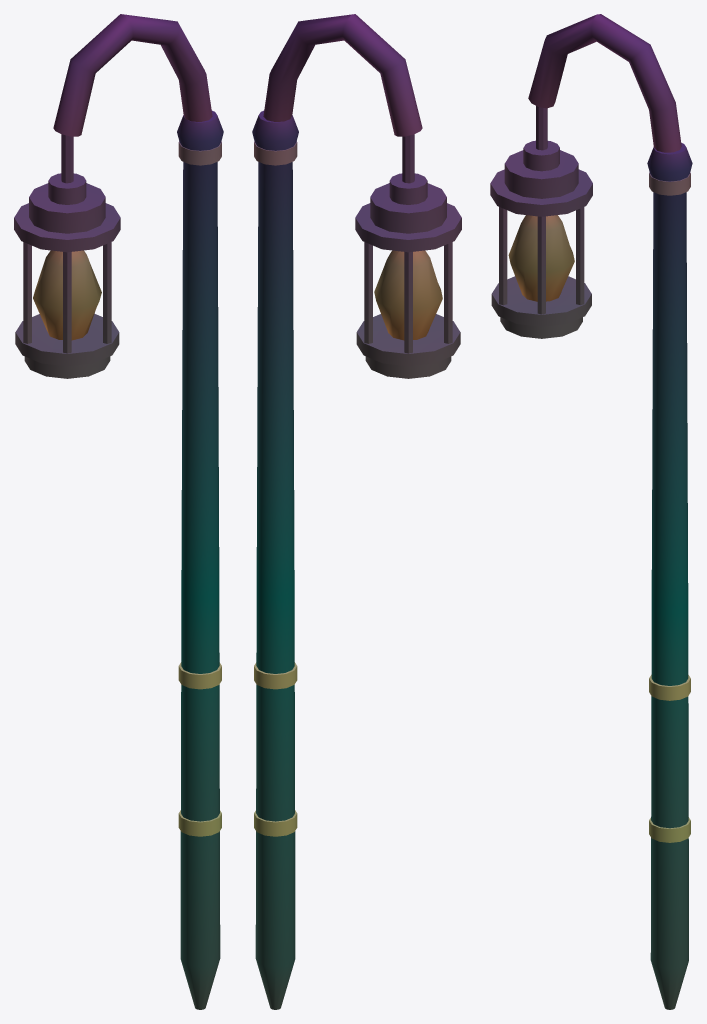
The model's file is lantern_crook.glb.
The picture shows the model from 3 angles, left to right: view 1: azimuth 30°, elevation 25°; view 2: azimuth 150°, elevation 25°; view 3: azimuth 330°, elevation 25°; orthographic projection. The views are drawn at different scales.
Visible parts, largest first — view 1: crook_staff, crook_cage, crook_hook, crook_flame, crook_brass; view 2: crook_staff, crook_cage, crook_hook, crook_flame, crook_brass; view 3: crook_staff, crook_cage, crook_hook, crook_flame, crook_brass.
Boxes of the visible parts, bbox=[...] form: crook_staff: bbox=[177, 110, 223, 1009]; crook_cage: bbox=[14, 134, 120, 378]; crook_hook: bbox=[53, 14, 212, 136]; crook_flame: bbox=[33, 250, 101, 340]; crook_brass: bbox=[178, 141, 221, 836]; crook_staff: bbox=[252, 110, 298, 1009]; crook_cage: bbox=[355, 134, 461, 378]; crook_hook: bbox=[263, 14, 422, 136]; crook_flame: bbox=[374, 250, 442, 340]; crook_brass: bbox=[254, 141, 297, 836]; crook_staff: bbox=[647, 143, 692, 1009]; crook_cage: bbox=[490, 106, 592, 338]; crook_hook: bbox=[528, 14, 681, 152]; crook_flame: bbox=[508, 215, 574, 301]; crook_brass: bbox=[649, 172, 690, 842].
Size of the model in its own units: 0.51 by 2.47 by 0.236.
